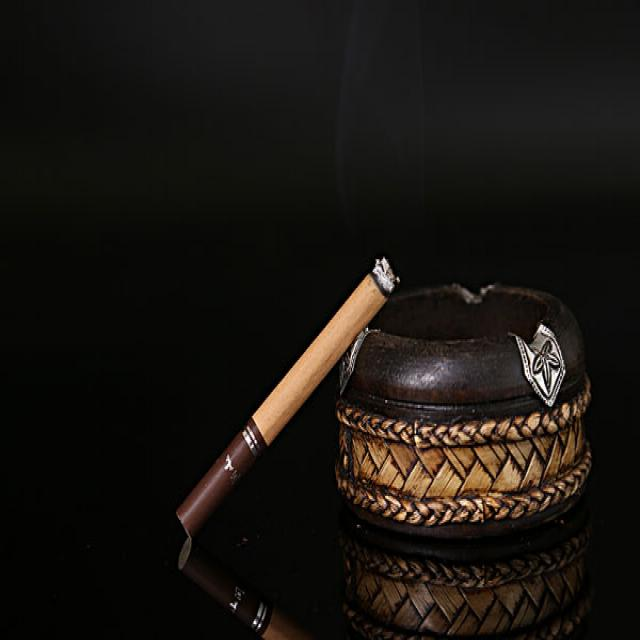smoking: (177, 256, 398, 539), (173, 539, 306, 638)
